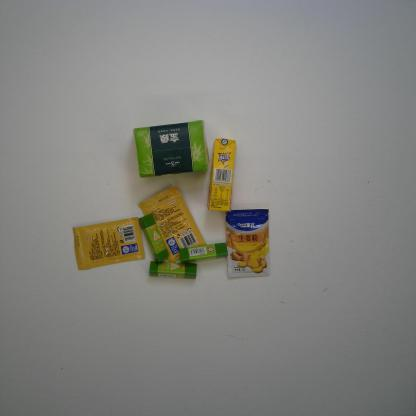Drink: (206, 137, 237, 212)
Seasoner: (137, 185, 207, 263), (72, 216, 147, 270), (225, 208, 272, 278)
Stationery: (138, 212, 170, 262), (179, 242, 229, 264), (148, 260, 198, 279)
Tissue: (133, 119, 210, 179)
